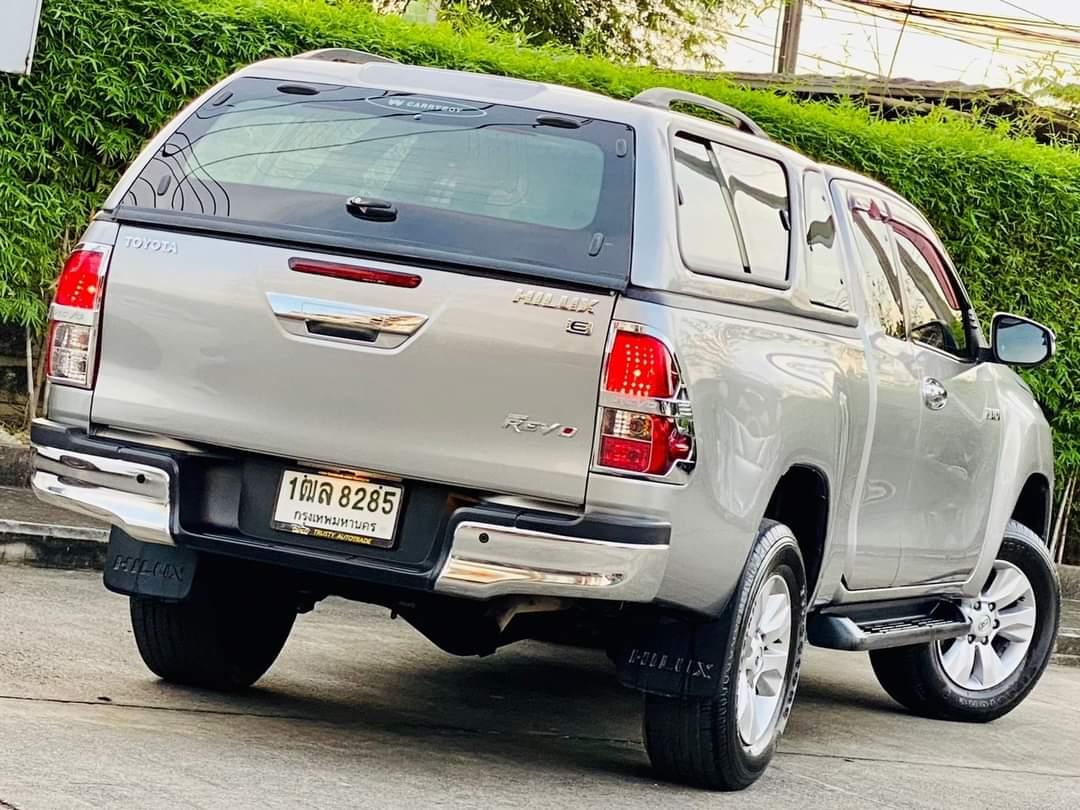license-plate: (274, 460, 407, 549)
